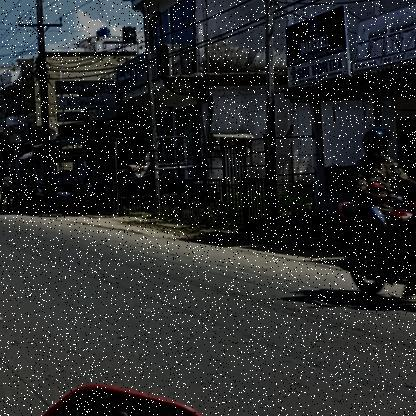motorcycle: (327, 184, 416, 316)
